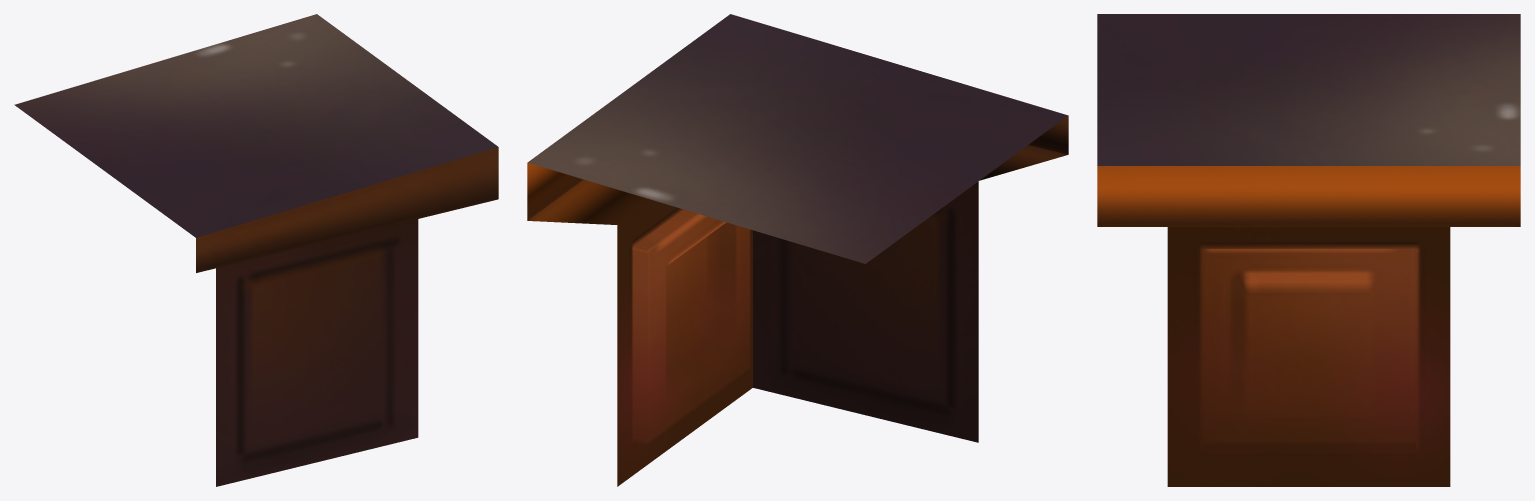
The model's file is Tx_props_court_reporter_table_5.fbx.
The picture shows the model from 3 angles, left to right: view 1: azimuth 30°, elevation 25°; view 2: azimuth 150°, elevation 25°; view 3: azimuth 270°, elevation 25°; orthographic projection. The views are drawn at different scales.
Visible parts, largest first — view 1: polySurface4; view 2: polySurface4; view 3: polySurface4.
Part boxes in pixels (x1,y1,x2,y2): polySurface4: [14, 14, 498, 486]; polySurface4: [527, 14, 1068, 486]; polySurface4: [1097, 14, 1520, 486].
Size of the model in its own units: 4.03 by 3.82 by 4.19.
